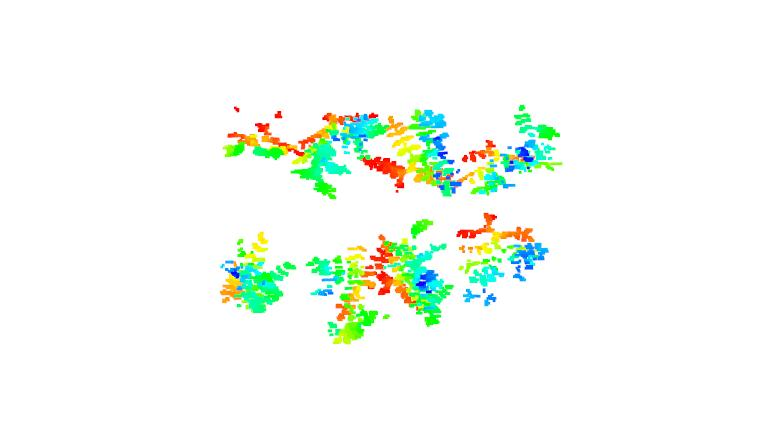chickpea: (461, 101, 567, 199), (372, 220, 452, 329), (307, 239, 387, 345), (458, 211, 550, 303), (211, 225, 294, 312), (217, 104, 307, 183), (380, 110, 457, 199), (306, 110, 376, 202)
